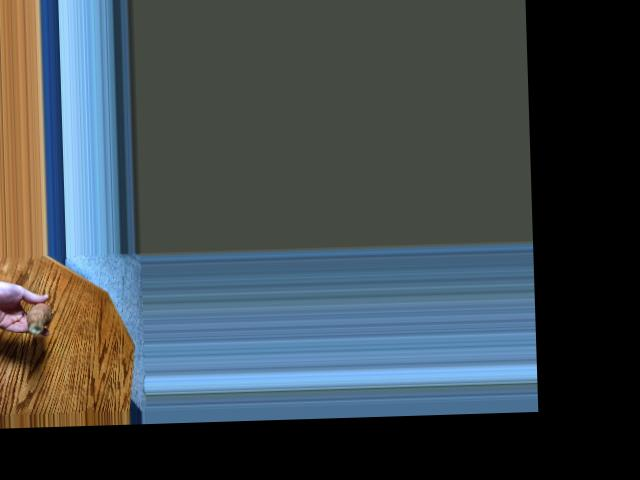sweet_potato: (26, 298, 63, 334)
